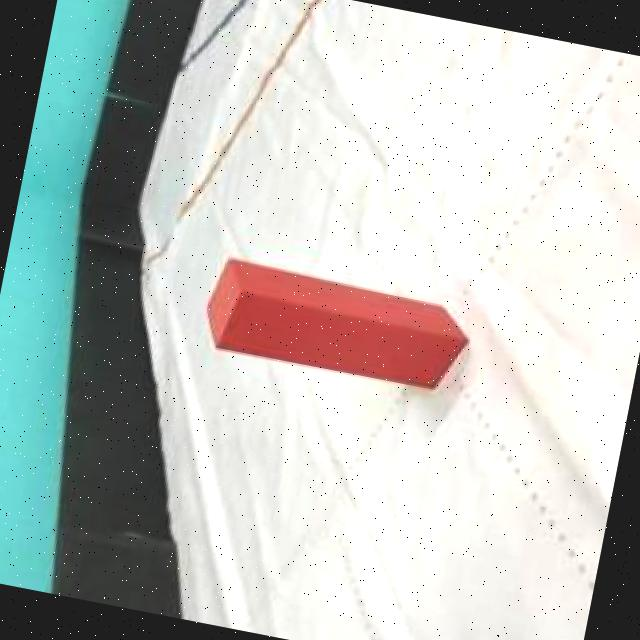redbox: (197, 255, 476, 398)
